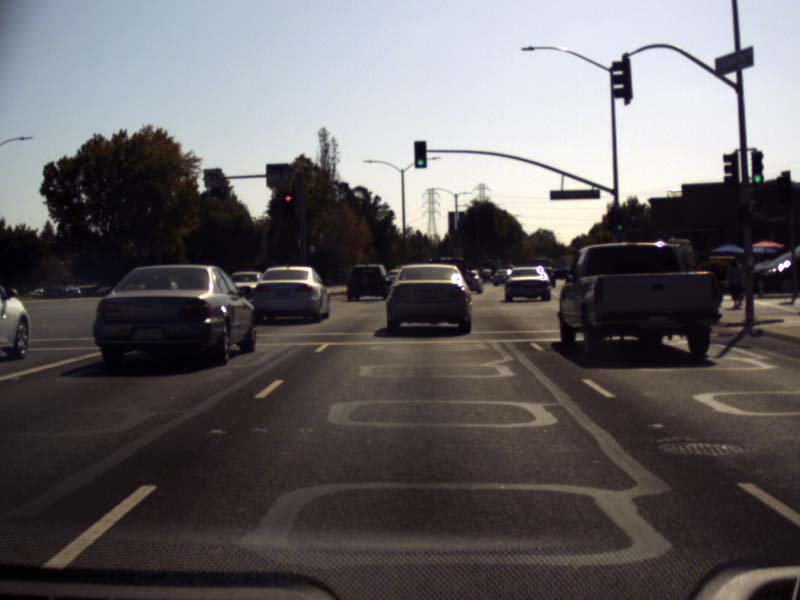Green: (751, 152, 762, 184), (414, 141, 426, 168), (614, 208, 624, 231)
Red: (283, 191, 294, 218)
